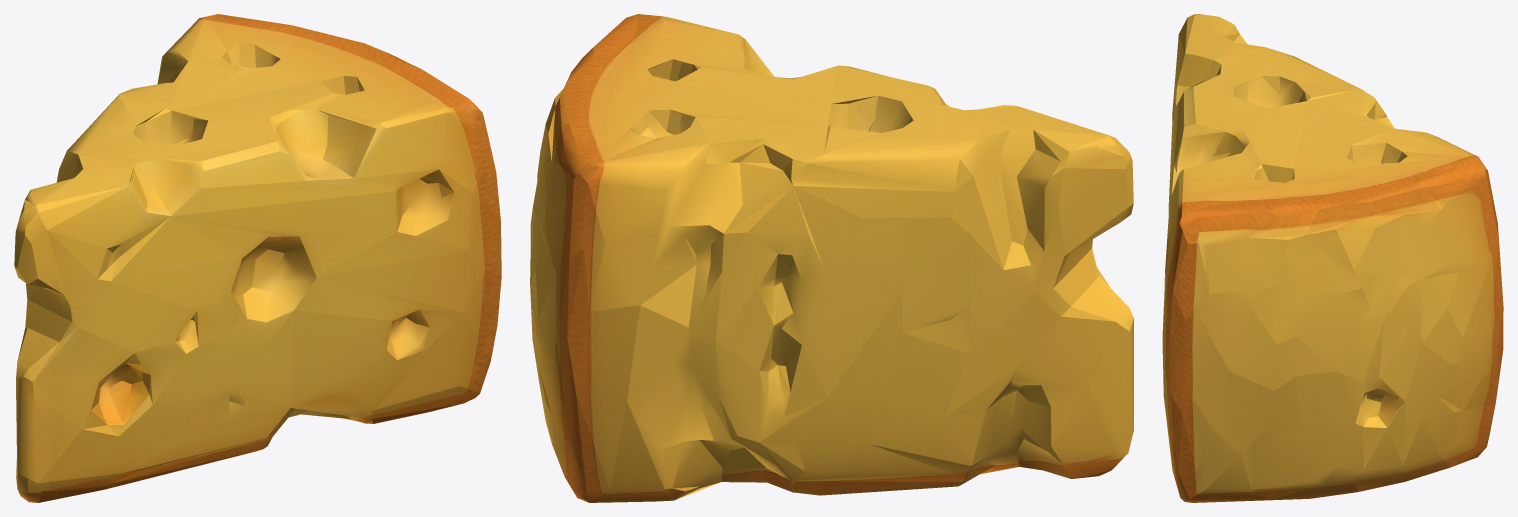
Rendered from prop-cheese.glb.
3 views of the same model, side by side, from view 1: azimuth 30°, elevation 25°; view 2: azimuth 150°, elevation 25°; view 3: azimuth 270°, elevation 25° (orthographic). The views are drawn at different scales.
Bounding box in the file's own units: 1.9 × 1.17 × 1.22.
Materials: 1 (1 with a texture image).
